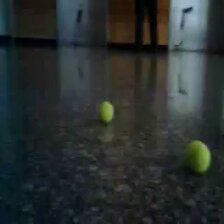tennis: (183, 140, 212, 174), (97, 102, 115, 124)
